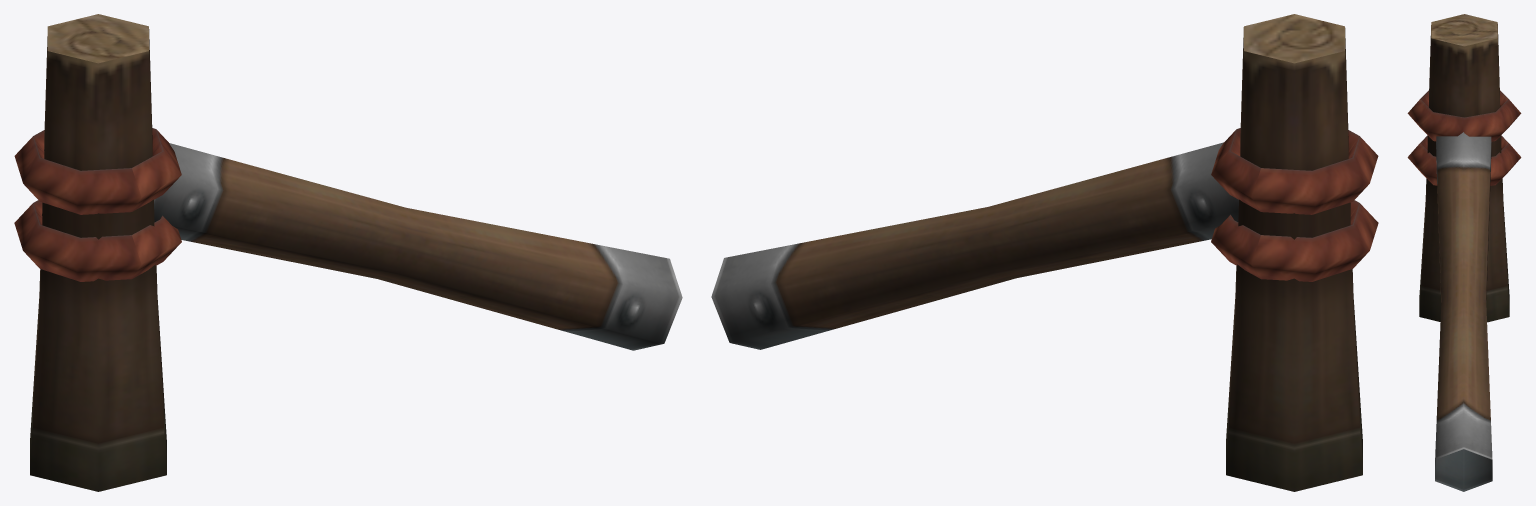
3 views of the same model, side by side, from view 1: azimuth 30°, elevation 25°; view 2: azimuth 150°, elevation 25°; view 3: azimuth 270°, elevation 25° (orthographic). The views are drawn at different scales.
Parts seen in each view (by area): view 1: wq_wj007_03; view 2: wq_wj007_03; view 3: wq_wj007_03.
Part boxes in pixels (x1,y1,x2,y2): wq_wj007_03: [14, 14, 682, 491]; wq_wj007_03: [711, 14, 1378, 491]; wq_wj007_03: [1407, 14, 1521, 491].
Size of the model in its own units: 152 by 99.19 by 35.31.
1 material, 1 textured.
